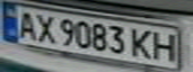0: (72, 19, 93, 49)
3: (106, 24, 130, 56)
8: (90, 21, 109, 53)
9: (54, 16, 78, 47)
A: (15, 8, 39, 42)
H: (148, 29, 181, 62)
K: (127, 26, 157, 61)
X: (30, 11, 57, 44)
